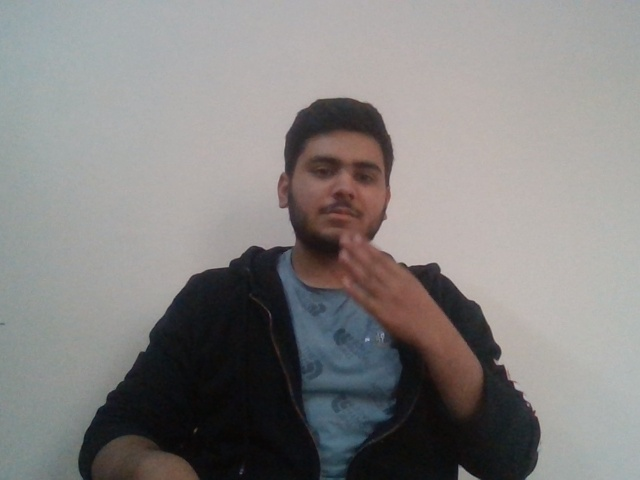Thanks: (294, 195, 399, 289)
